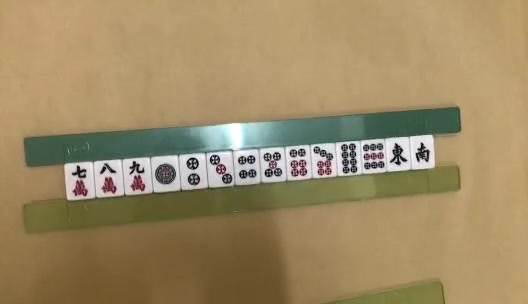1p: (153, 163, 177, 185)
1z: (391, 141, 406, 165)
2p: (186, 158, 200, 185)
2z: (415, 142, 429, 162)
3p: (209, 155, 232, 185)
4p: (238, 156, 257, 178)
5p: (264, 152, 284, 178)
6p: (289, 147, 308, 178)
7m: (71, 166, 87, 198)
7p: (313, 146, 333, 176)
8m: (99, 163, 116, 194)
8p: (341, 143, 357, 175)
9m: (129, 160, 145, 192)
9p: (363, 143, 384, 171)
